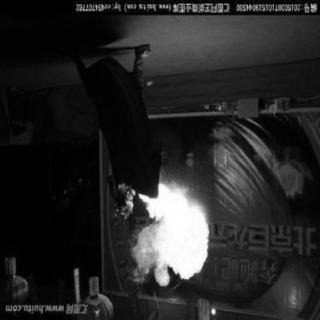Fire: (122, 180, 208, 290)
